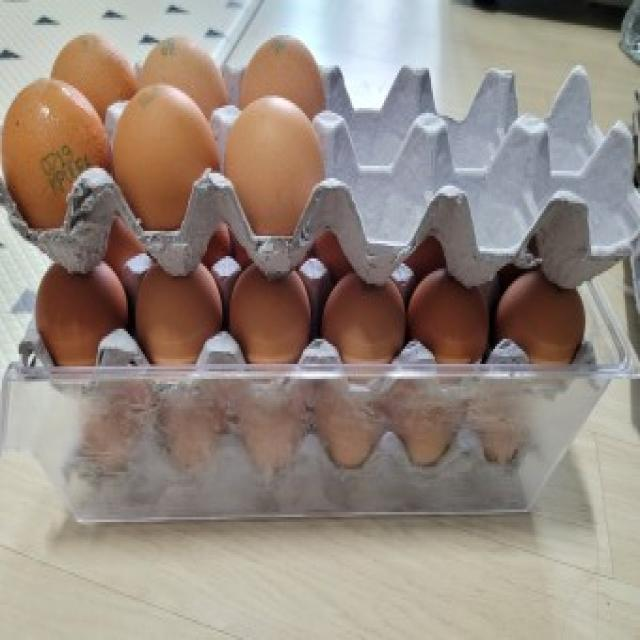eggs: (0, 75, 122, 223), (109, 85, 221, 235), (224, 91, 326, 239), (33, 257, 134, 369), (131, 253, 225, 367), (498, 263, 590, 375), (227, 258, 321, 360), (402, 266, 490, 365), (323, 268, 406, 370), (50, 34, 139, 120), (240, 34, 323, 120), (137, 29, 221, 107)
